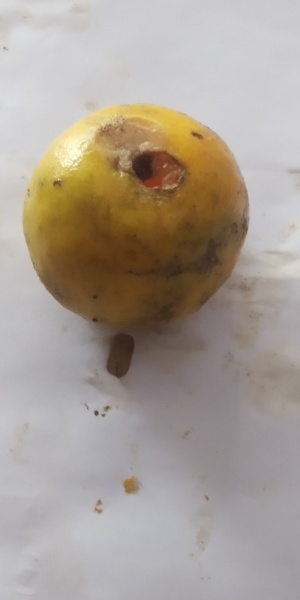BAD: (24, 101, 254, 330)
